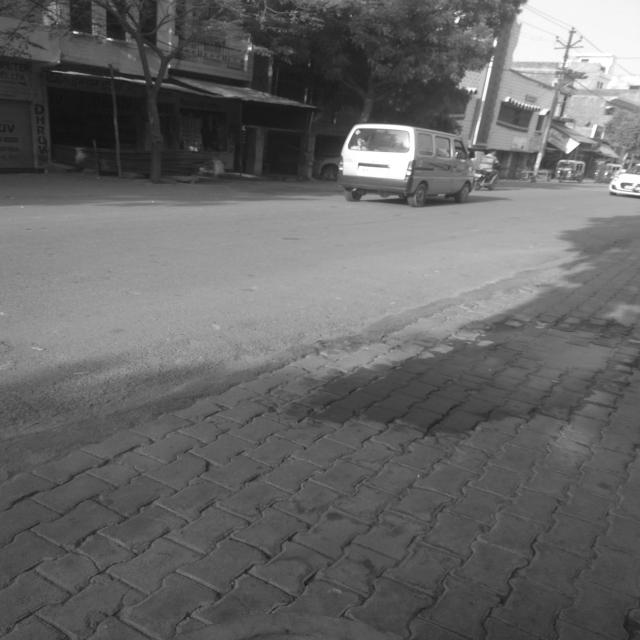Car: (338, 124, 473, 206), (608, 165, 640, 196)
